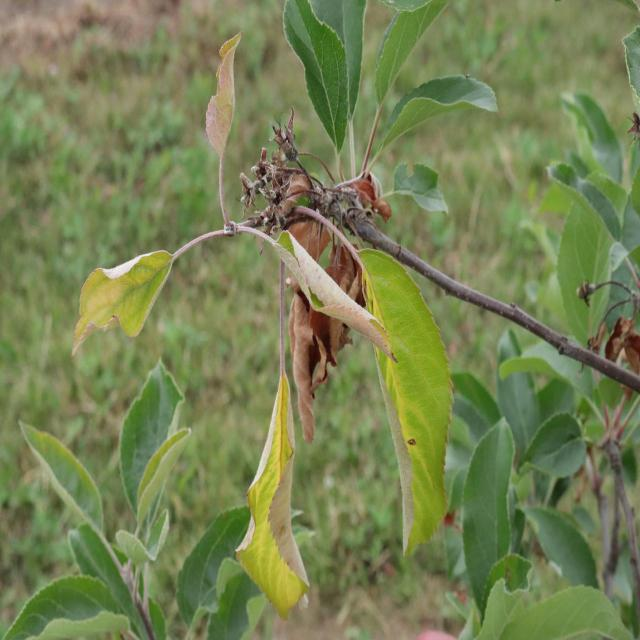-FireBlight-: (273, 207, 358, 446)
